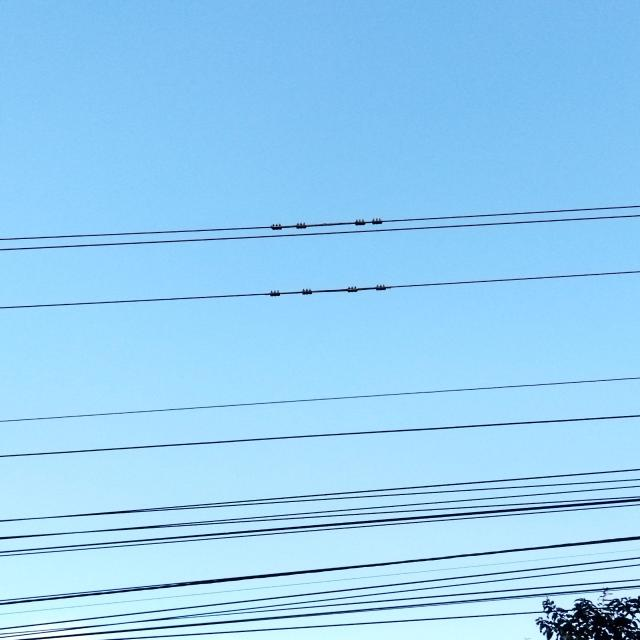wire: (1, 555, 640, 631), (1, 563, 640, 639), (1, 535, 640, 608), (0, 547, 640, 616), (0, 577, 640, 636), (0, 497, 640, 555), (0, 484, 640, 541), (1, 467, 640, 523), (0, 503, 640, 558), (16, 584, 640, 640), (0, 375, 640, 425), (0, 414, 640, 459), (101, 607, 593, 640)
